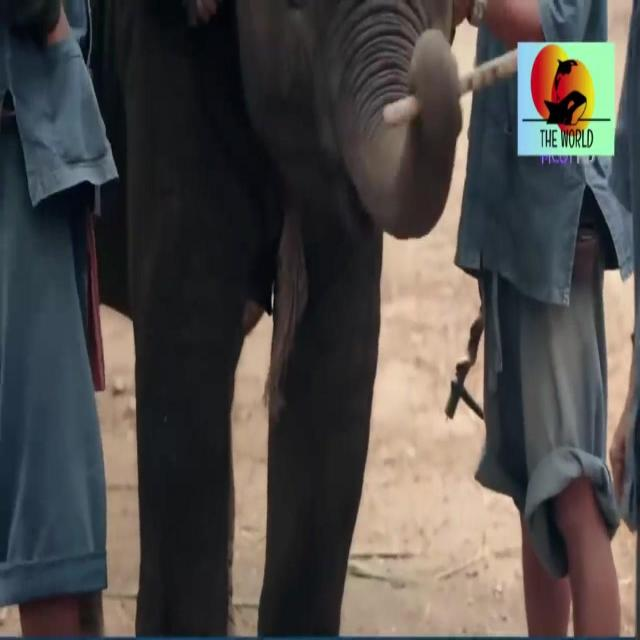Elephant: (148, 0, 435, 270)
